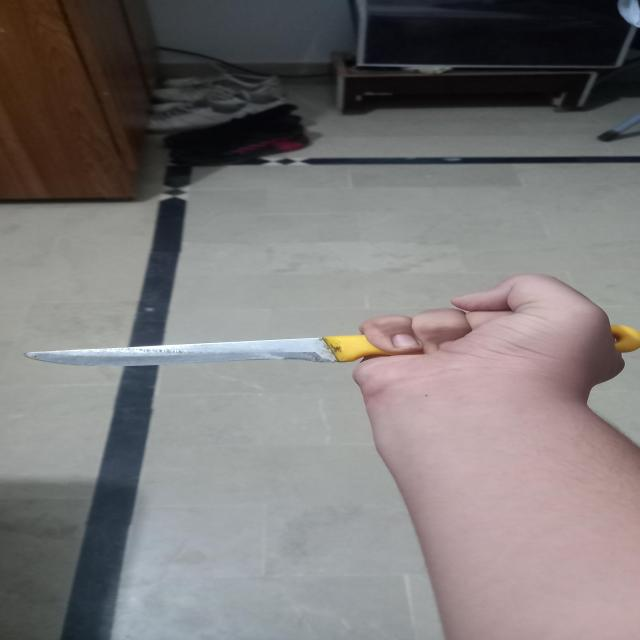Knife: (25, 325, 637, 366)
Person: (350, 274, 640, 624)
